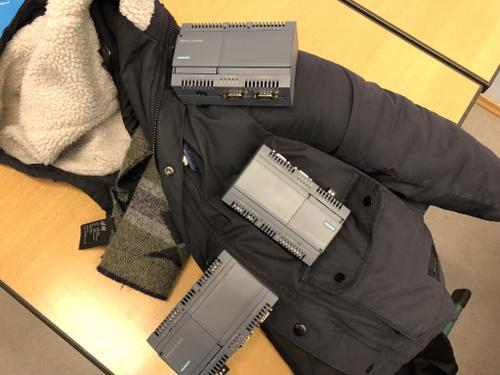device: (147, 250, 279, 375), (221, 145, 351, 267), (171, 22, 299, 107)
